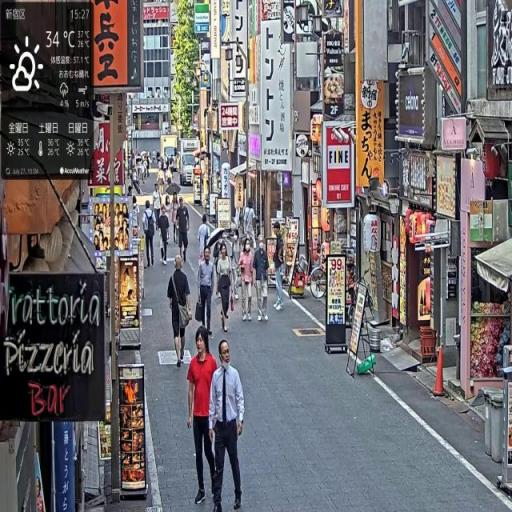person: (209, 338, 247, 512), (186, 322, 220, 509), (167, 255, 193, 370), (217, 243, 236, 337), (198, 248, 217, 339), (254, 235, 271, 324), (239, 239, 257, 322), (144, 200, 158, 272), (177, 197, 192, 264), (158, 203, 171, 266), (199, 217, 211, 268)
